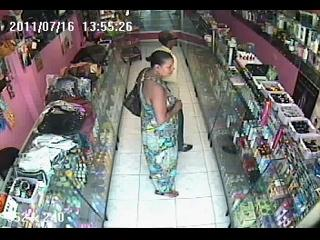Normal: (138, 49, 184, 197), (123, 68, 150, 117)
